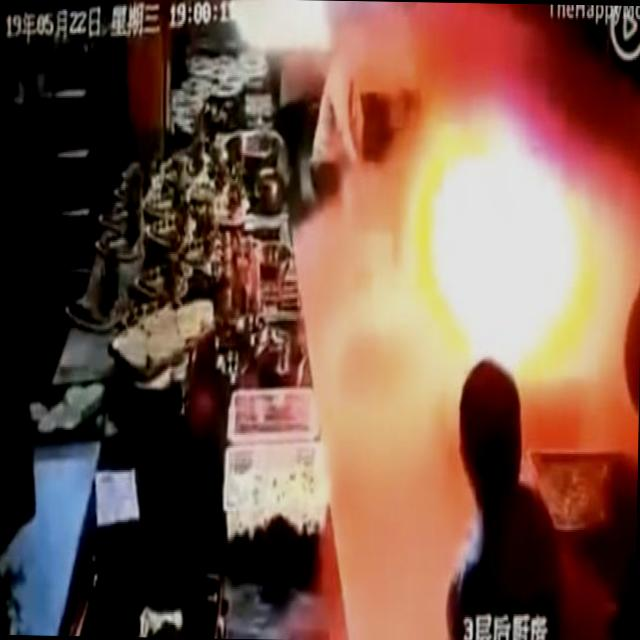fire: (405, 110, 613, 372)
